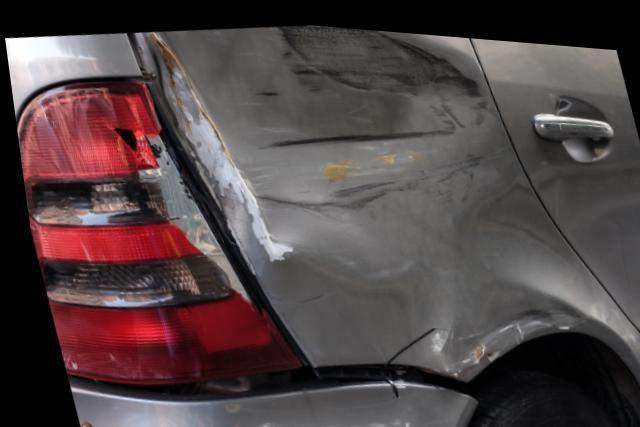dent: (134, 20, 557, 367)
lamp broken: (13, 78, 295, 385)
